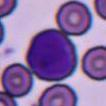M: (26, 28, 78, 82)
